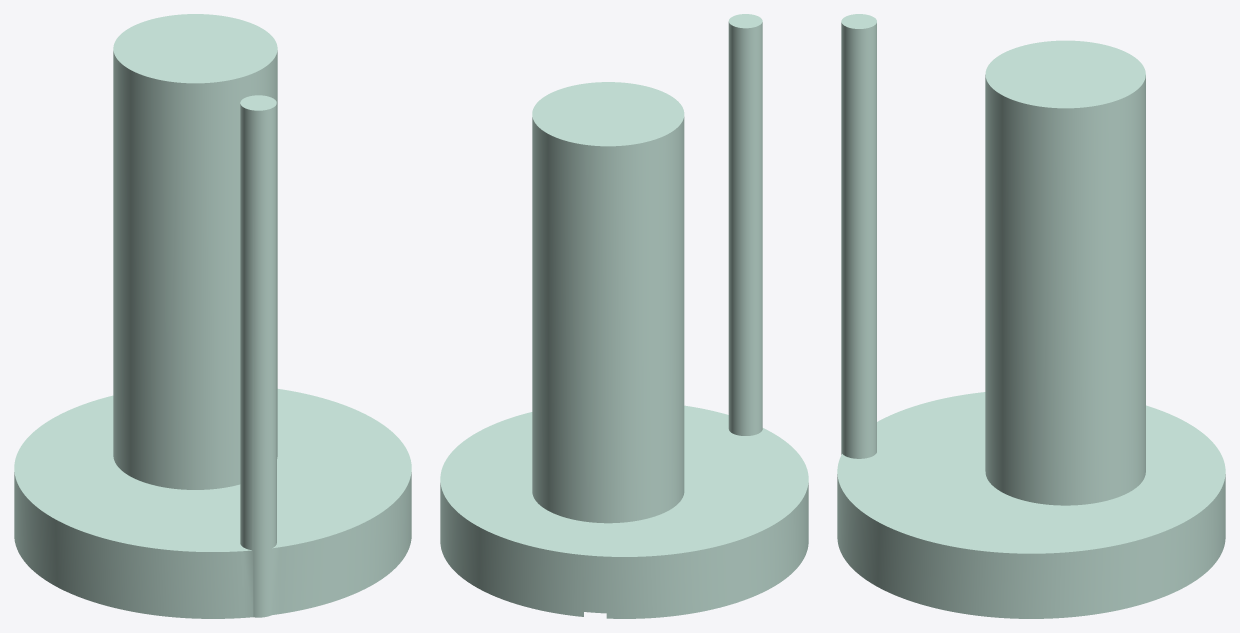
The picture shows the model from 3 angles, left to right: view 1: azimuth 30°, elevation 25°; view 2: azimuth 150°, elevation 25°; view 3: azimuth 270°, elevation 25°; orthographic projection. The views are drawn at different scales.
Parts seen in each view (by area): view 1: Renderer Node; view 2: Renderer Node; view 3: Renderer Node.
Boxes of the visible parts, x1,y1,x2,y2 form: Renderer Node: (14,14,411,618); Renderer Node: (440,14,808,618); Renderer Node: (837,14,1225,618).
Size of the model in its own units: 0.5052 by 0.7109 by 0.5053.
